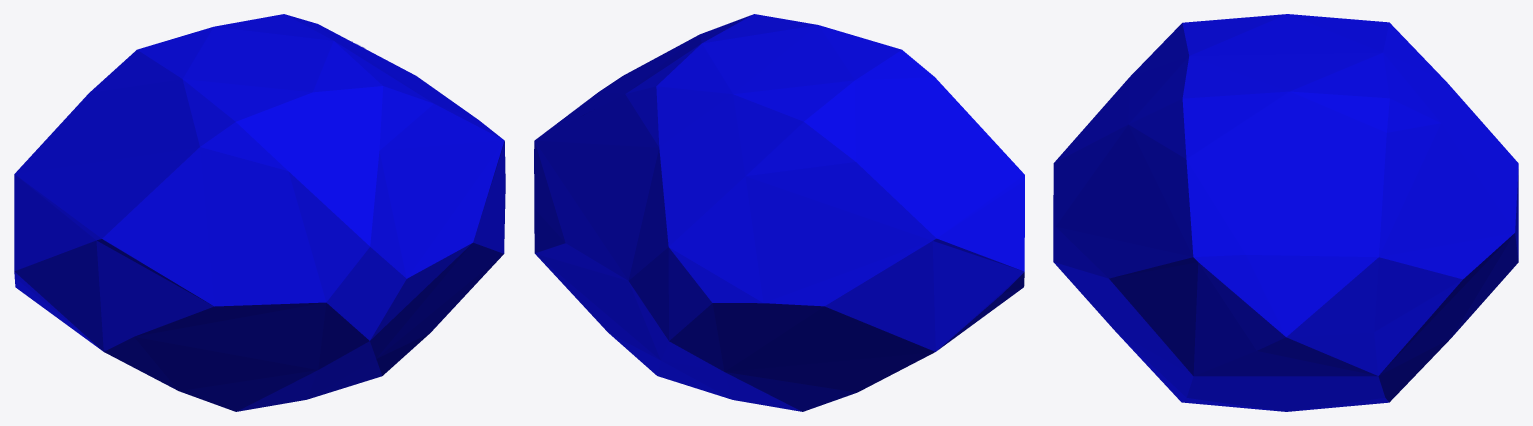
The model's file is meteor_blue_silence_crystal_04.glb.
3 views of the same model, side by side, from view 1: azimuth 30°, elevation 25°; view 2: azimuth 150°, elevation 25°; view 3: azimuth 270°, elevation 25° (orthographic). The views are drawn at different scales.
Parts seen in each view (by area): view 1: Mesh1.0; view 2: Mesh1.0; view 3: Mesh1.0.
Boxes of the visible parts, left/top/right/bottom form: Mesh1.0: left=14, top=14, right=505, bottom=411; Mesh1.0: left=534, top=14, right=1024, bottom=411; Mesh1.0: left=1053, top=14, right=1518, bottom=411.
Bounding box in the file's own units: 1.91 × 1.13 × 1.49.
